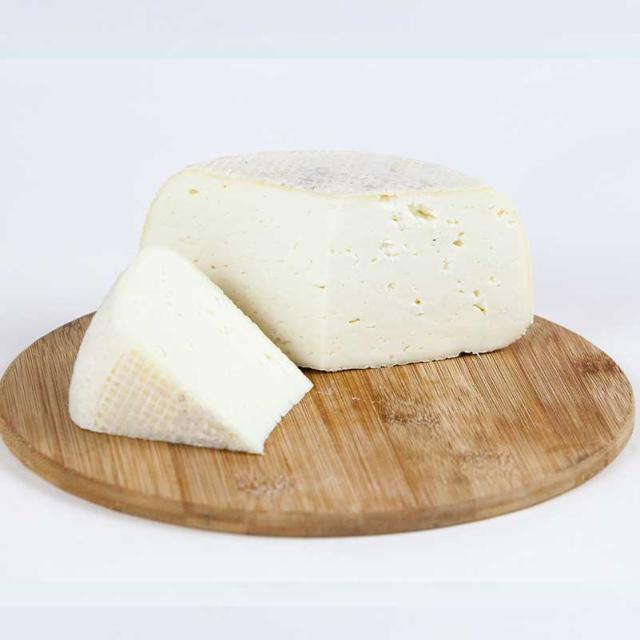Cheese: (134, 124, 548, 390), (66, 224, 308, 467)
